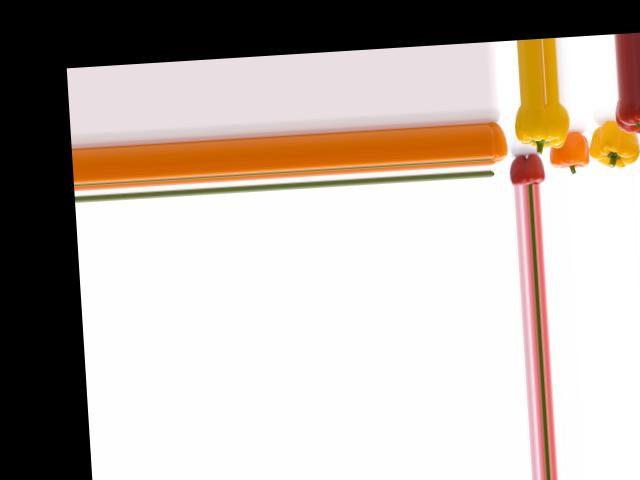bell_pepper: (487, 121, 511, 166)
